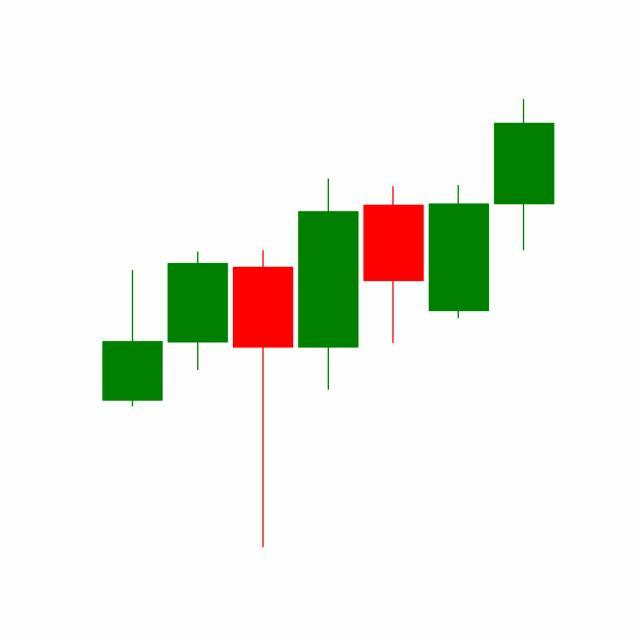Hikkake Pattern: (165, 174, 492, 548)
